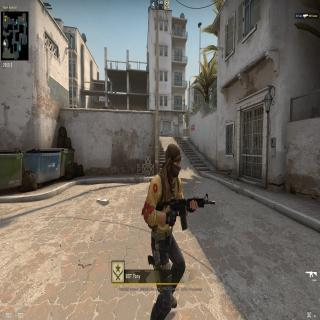T-Head: (164, 142, 183, 181)
